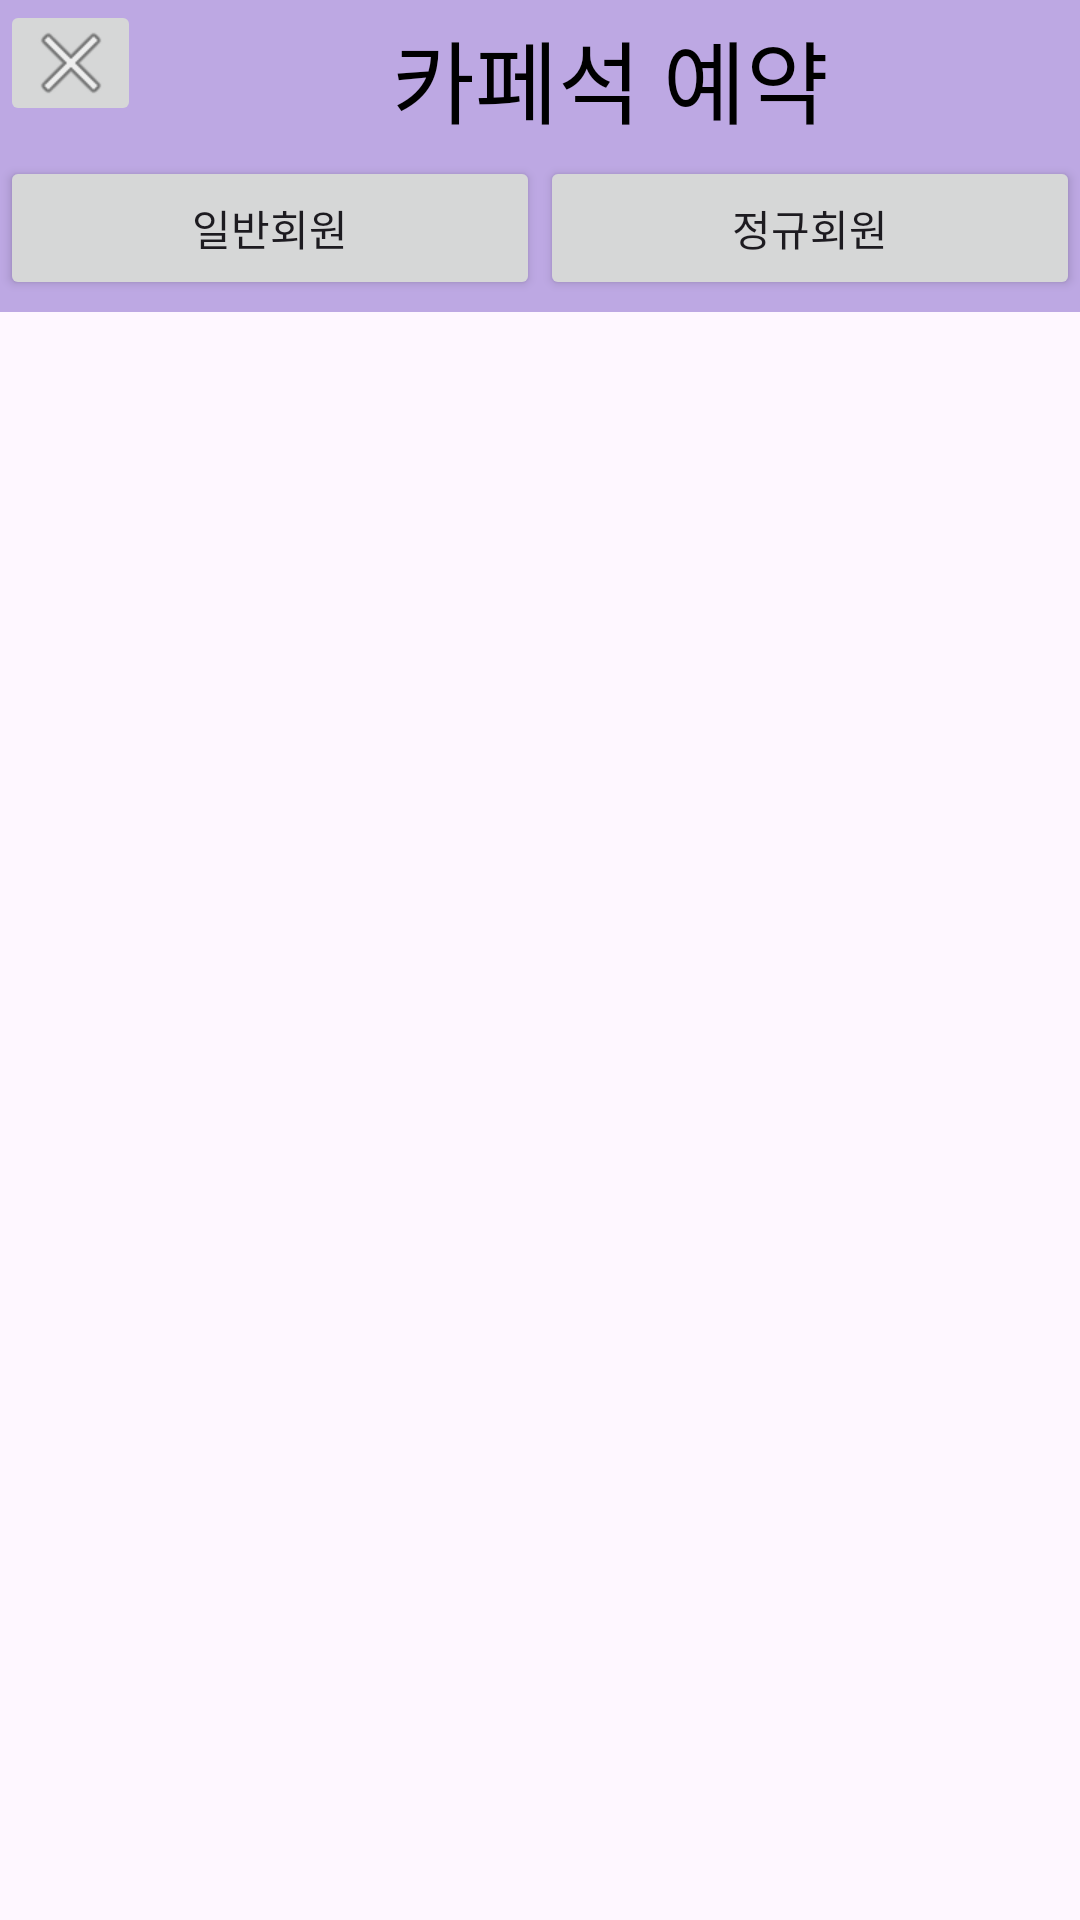

Locate icon controls on the screen. Image size 1080 × 1920, boxes as (x1, y1, x2, y2).
close clear cancel: (12, 18, 129, 108)
